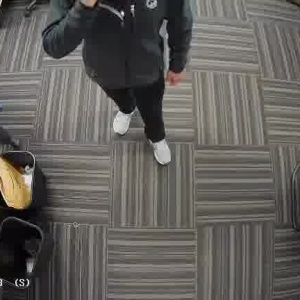person: (58, 0, 194, 151)
